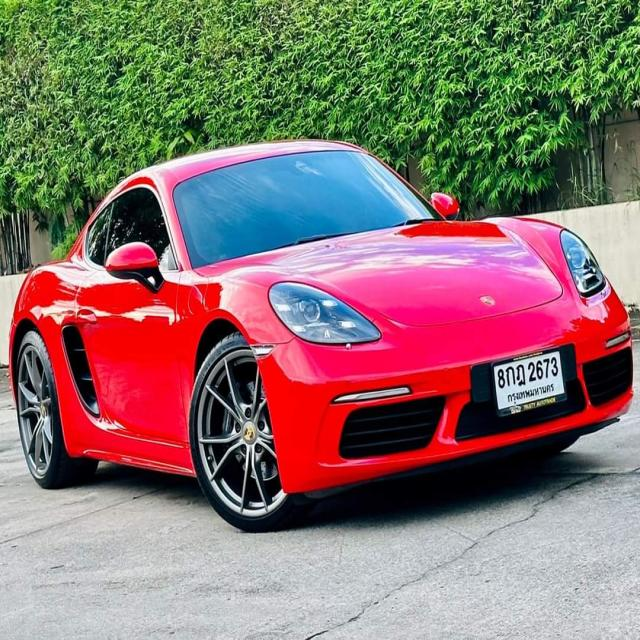license_plate: (481, 345, 573, 424)
